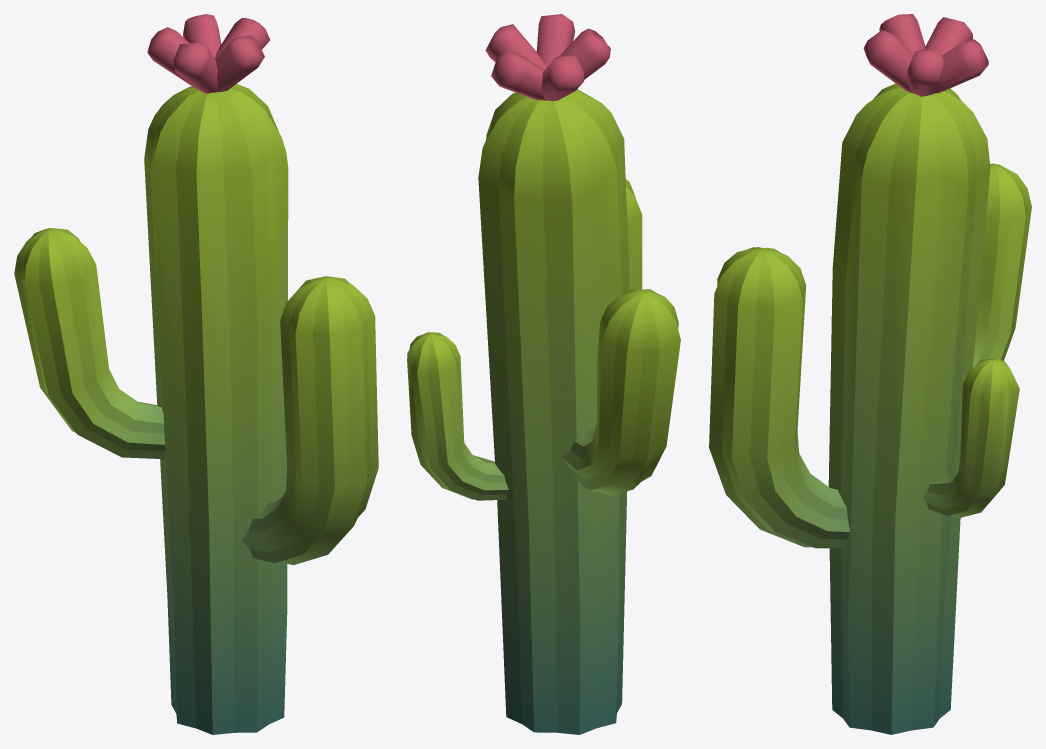
3 views of the same model, side by side, from view 1: azimuth 30°, elevation 25°; view 2: azimuth 150°, elevation 25°; view 3: azimuth 270°, elevation 25° (orthographic). The views are drawn at different scales.
Parts seen in each view (by area): view 1: LOD 1_7895142726789826799_f747010238922ae448abd02d66270030; view 2: LOD 1_7895142726789826799_f747010238922ae448abd02d66270030; view 3: LOD 1_7895142726789826799_f747010238922ae448abd02d66270030.
Part boxes in pixels (left/top/right/bottom): LOD 1_7895142726789826799_f747010238922ae448abd02d66270030: left=14, top=14, right=378, bottom=734; LOD 1_7895142726789826799_f747010238922ae448abd02d66270030: left=407, top=14, right=680, bottom=734; LOD 1_7895142726789826799_f747010238922ae448abd02d66270030: left=709, top=14, right=1031, bottom=734.
Size of the model in its own units: 1.08 by 2.67 by 1.14.
